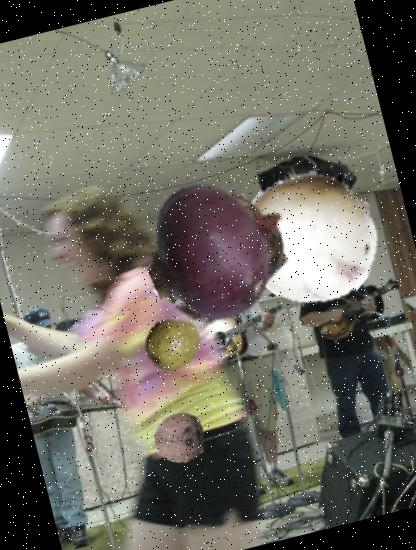Cocos: (148, 404, 214, 472)
Guava: (136, 305, 210, 379)
Onion: (130, 160, 306, 338)
Pepino: (230, 153, 396, 320)
Pineapple: (134, 177, 300, 343)
